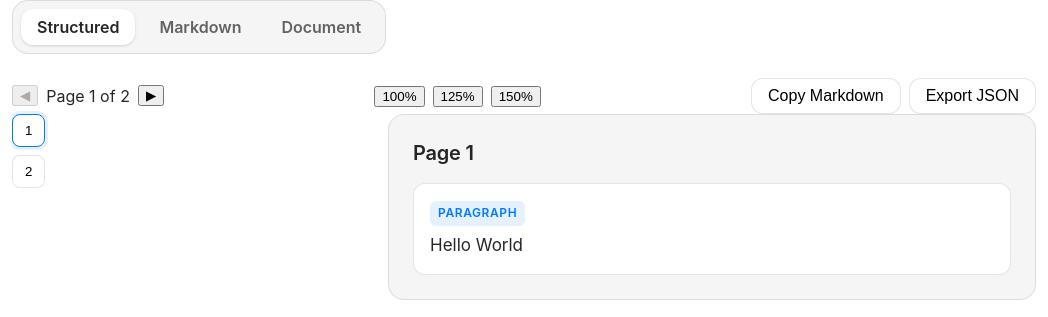
it: ResultsViewer › pagination next/prev and mini-map jump work
Click the button named "Next page" at (151, 96), box [138, 86, 164, 106]
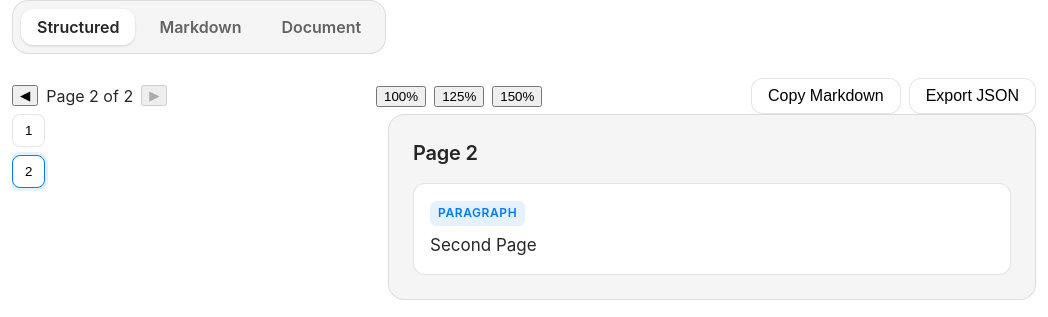
expect the text "Page 2 of 2" is shown: met, box [46, 85, 133, 107]
Click the button "1" at (29, 130), box [12, 114, 45, 147]
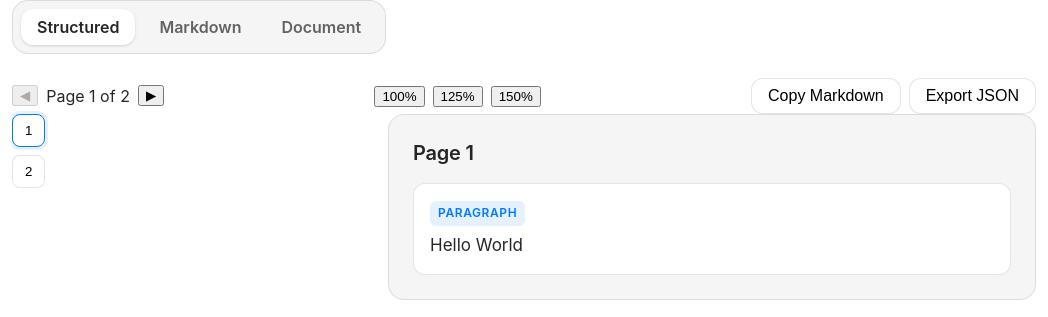
expect the text "Page 1 of 2" is shown: met, box [46, 85, 130, 107]
